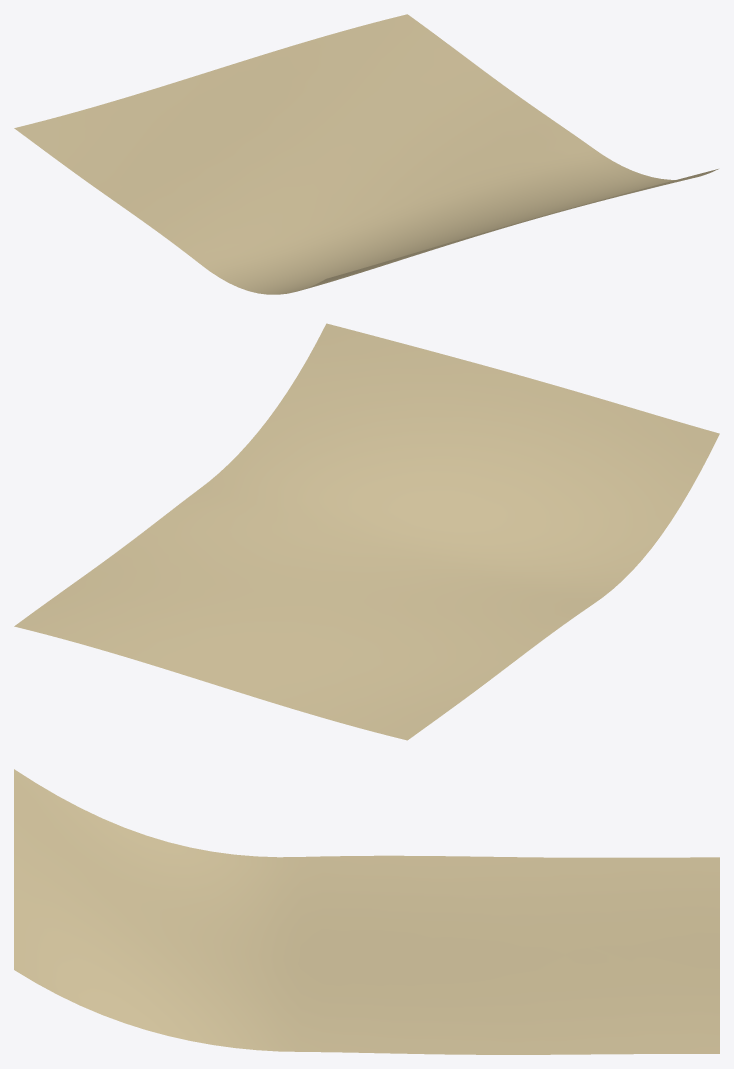
Rendered from ch6-piece-slip.glb.
The picture shows the model from 3 angles, top to bottom: view 1: azimuth 30°, elevation 25°; view 2: azimuth 150°, elevation 25°; view 3: azimuth 270°, elevation 25°; orthographic projection. The views are drawn at different scales.
Parts seen in each view (by area): view 1: slip; view 2: slip; view 3: slip.
Part boxes in pixels (box(x1,y1,x2,y2)): slip: box(14, 14, 718, 294); slip: box(14, 323, 719, 740); slip: box(14, 769, 719, 1054).
Bounding box in the file's own units: 0.16 × 0.036 × 0.22.
